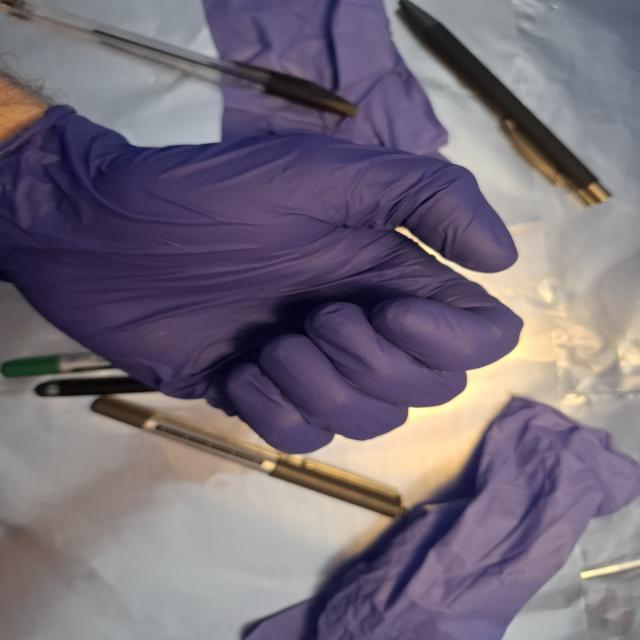glove_on: (10, 88, 529, 454)
